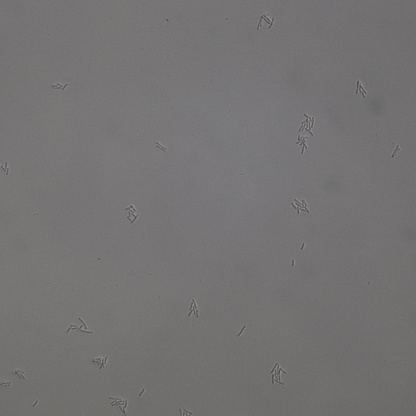R(colony): (67, 317, 92, 336), (269, 362, 286, 386), (256, 13, 276, 31), (298, 113, 315, 134), (109, 396, 128, 414), (290, 198, 311, 214), (187, 298, 200, 319), (125, 204, 138, 224), (90, 356, 108, 370), (297, 136, 310, 154), (354, 80, 366, 97), (12, 369, 26, 380), (52, 82, 68, 91), (155, 143, 167, 151)
